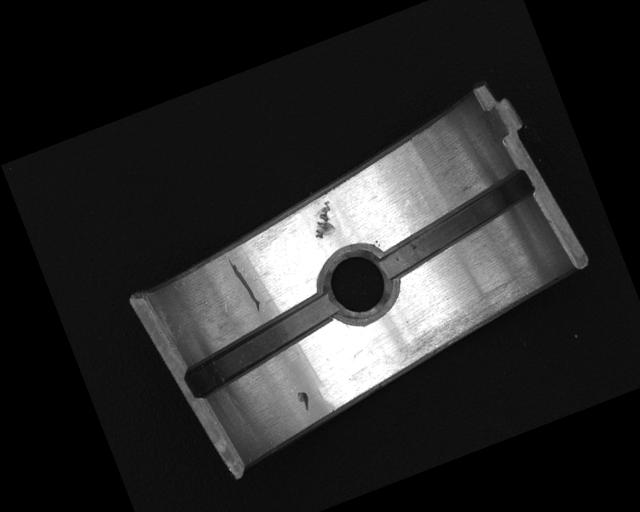bruise: (303, 199, 343, 242), (294, 388, 313, 413)
gap: (366, 168, 546, 282), (176, 292, 347, 399)
hole: (311, 239, 406, 336)
nick: (226, 252, 262, 316)
scratch: (380, 277, 531, 372)
